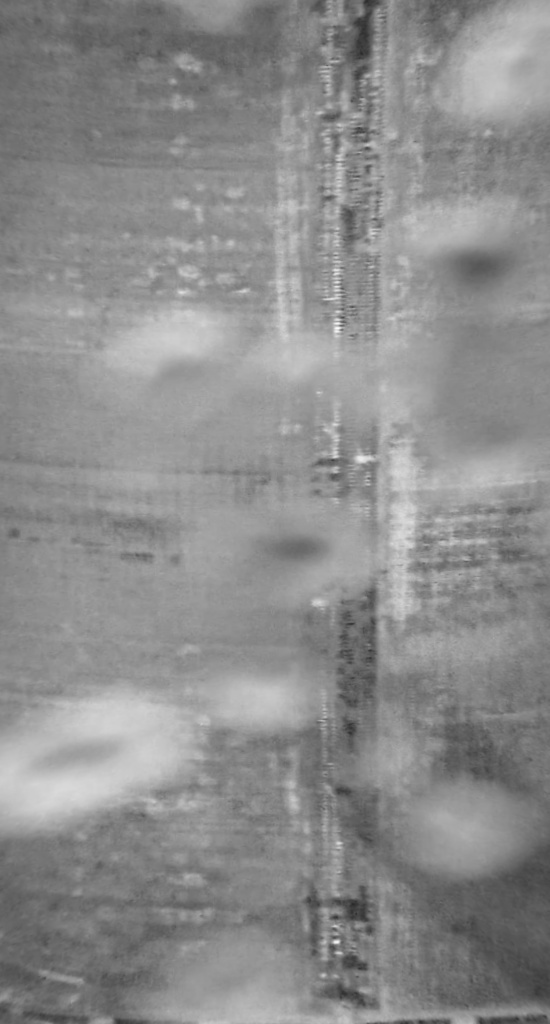splice: (295, 1, 392, 1023)
